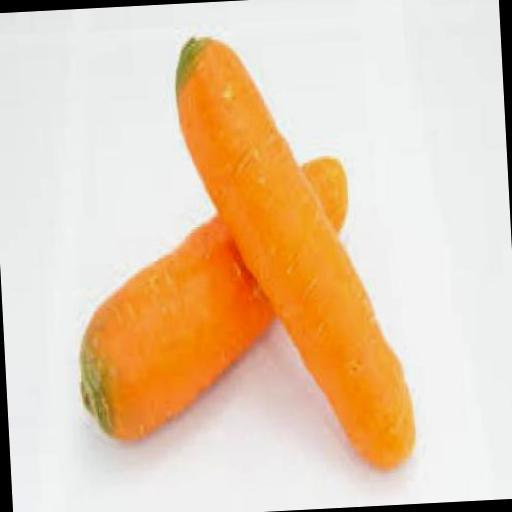biodegradable: (171, 21, 418, 478), (66, 152, 358, 444)
